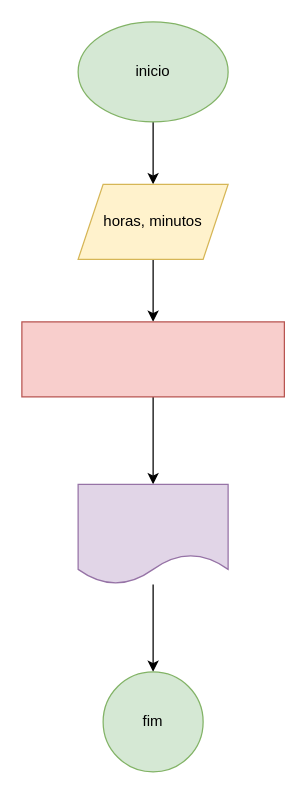
This 306x794 diagram has some shape labels left out. The shapes that lost their labels are listed below. From the top down, each one's box as (x1, y1, x2, y2) in pixels, then its label:
(21, 321, 284, 397): minutosdec= minutos / 60 segundos= horas + minutosdec
(77, 483, 228, 584): segundos
